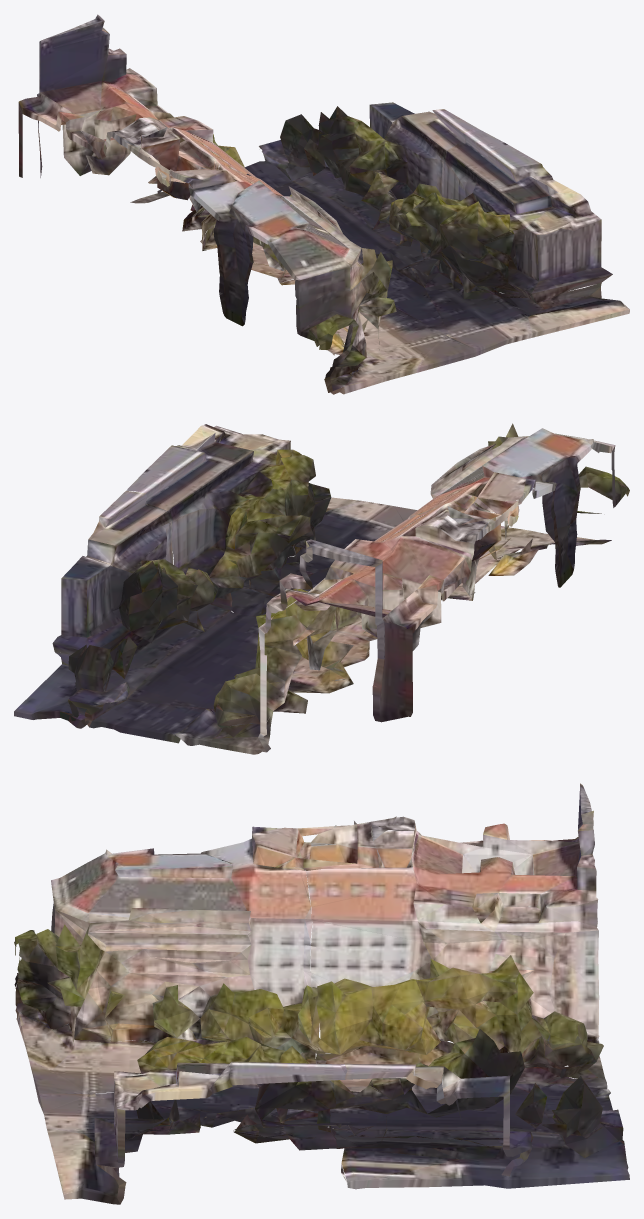
The picture shows the model from 3 angles, top to bottom: view 1: azimuth 30°, elevation 25°; view 2: azimuth 150°, elevation 25°; view 3: azimuth 270°, elevation 25°; orthographic projection. The views are drawn at different scales.
Parts seen in each view (by area): view 1: Mesh_0; view 2: Mesh_0; view 3: Mesh_0.
Boxes of the visible parts, x1,y1,x2,y2 form: Mesh_0: (18, 14, 629, 394); Mesh_0: (14, 423, 629, 754); Mesh_0: (14, 783, 629, 1204).
Size of the model in its own units: 67.47 by 34.86 by 82.47.
Materials: 1 (1 with a texture image).
